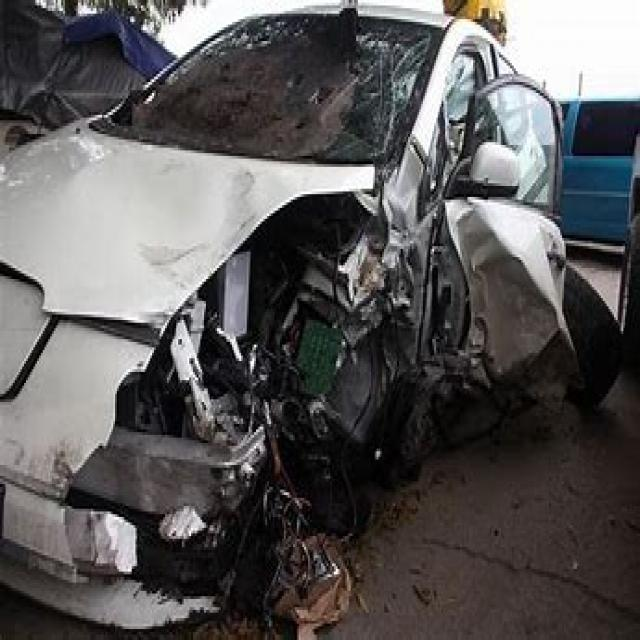Accident: (61, 19, 616, 640)
